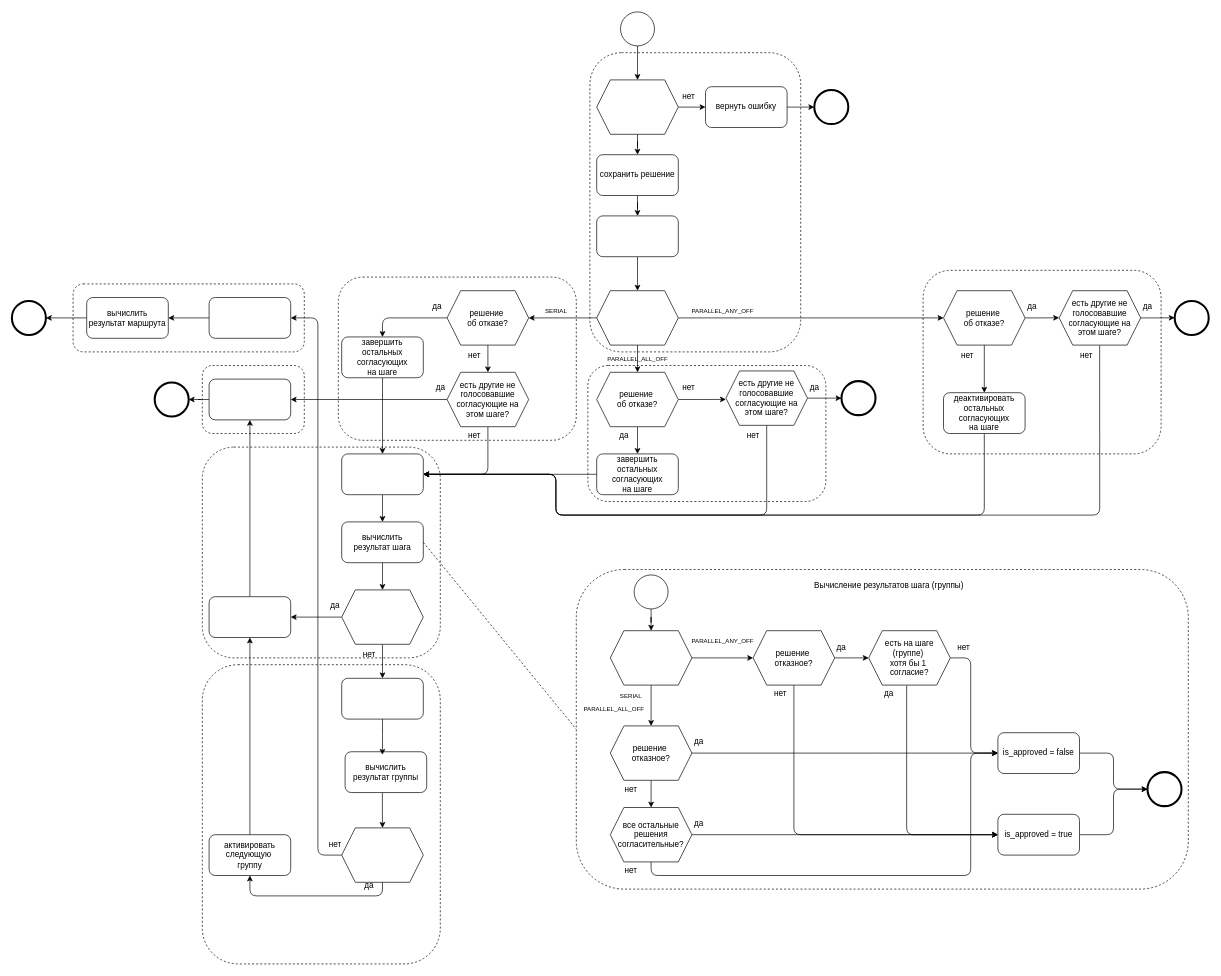
The diagram is 1221 pixels wide and 976 high, and some of its shapes have lost their labels. The centre of each missing label's shape, as x and y in pixels:
активировать следующего согласующего на этом шаге: (249,399)
активировать следующий шаг: (249,617)
деактивировать согласующего: (637,236)
есть ешё группы в маршруте?: (382,854)
есть ещё шаги в этой группе?: (382,616)
завершить группу: (382,698)
завершить маршрут и все его составляющие: (249,317)
завершить шаг: (382,474)
порядок согласования: (637,317)
тип шага (группы): (651,657)
шаг активный? согласующий активный? согласующий уполномочен?: (637,106)
